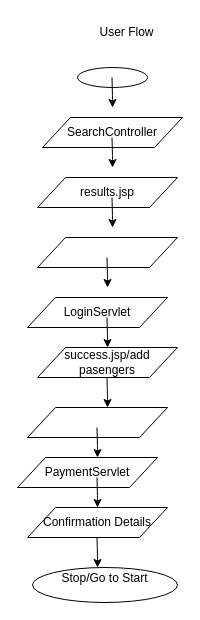
This 200x620 diagram has some shape labels left out. The centre of each missing label's shape, as x and y in pixels:
BookingServlet: the point at 107,252
Start: the point at 112,77
TicketController: the point at 97,422
